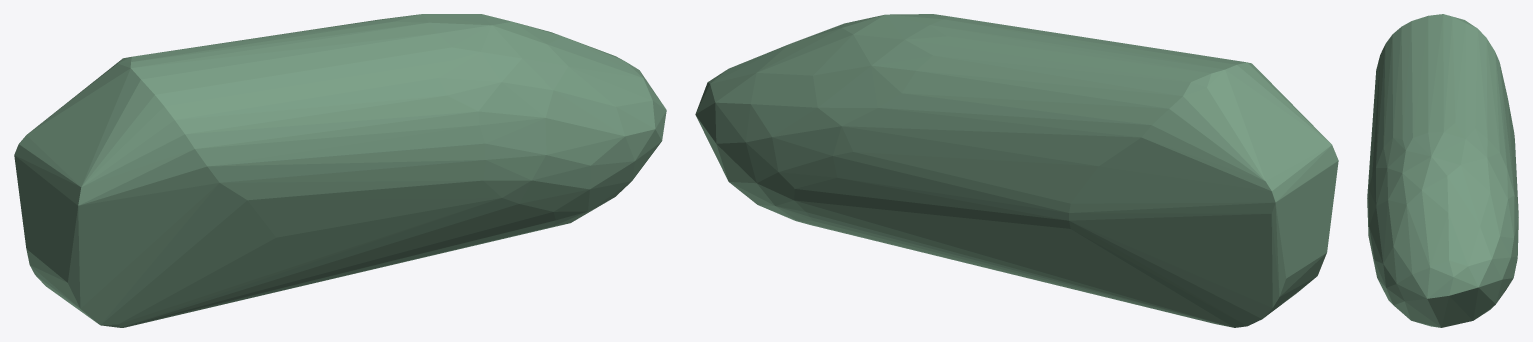
Rendered from thumb-F2_C_collision000.obj.
3 views of the same model, side by side, from view 1: azimuth 30°, elevation 25°; view 2: azimuth 150°, elevation 25°; view 3: azimuth 270°, elevation 25° (orthographic). The views are drawn at different scales.
Size of the model in its own units: 0.0793 by 0.0306 by 0.025.
